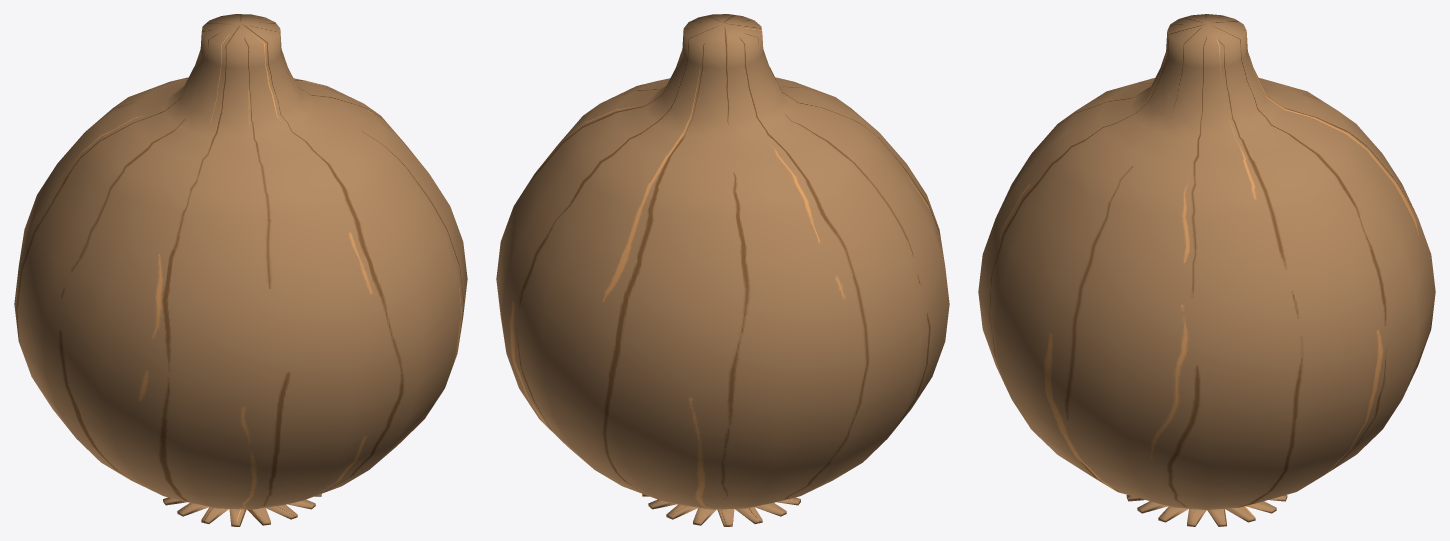
The model's file is onion_fbx.fbx.
3 renders of one model, left to right at view 1: azimuth 30°, elevation 25°; view 2: azimuth 150°, elevation 25°; view 3: azimuth 270°, elevation 25°, orthographic.
Parts seen in each view (by area): view 1: Sphere; view 2: Sphere; view 3: Sphere.
Part boxes in pixels (x1,y1,x2,y2): Sphere: (14,14,467,526); Sphere: (496,14,949,526); Sphere: (978,14,1435,526).
Size of the model in its own units: 200 by 227 by 200.
